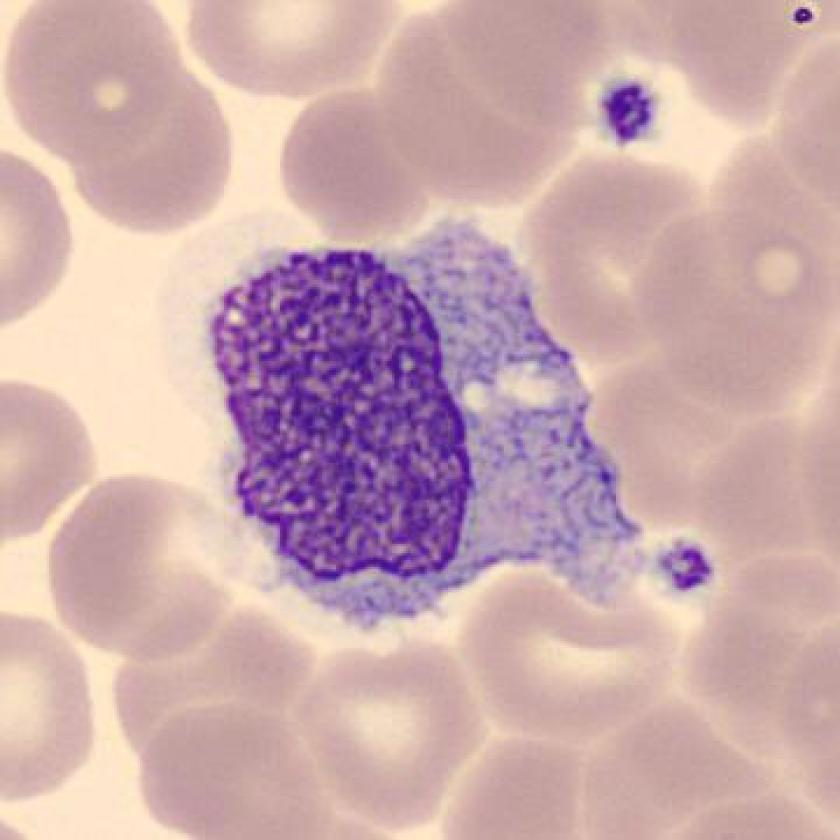monocyte: (181, 193, 666, 656)
